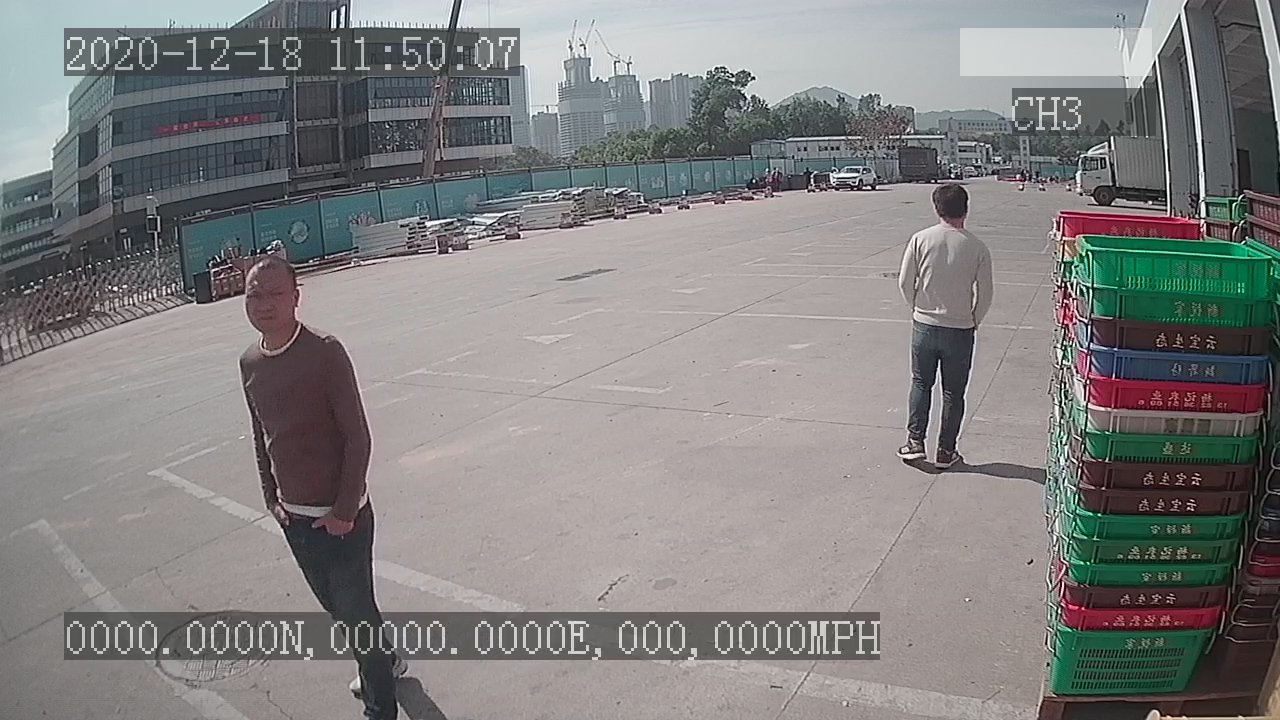person: (892, 181, 997, 476)
